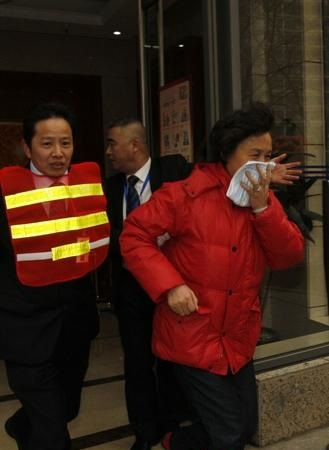face: (31, 119, 72, 178), (233, 131, 271, 192), (103, 124, 130, 174)
